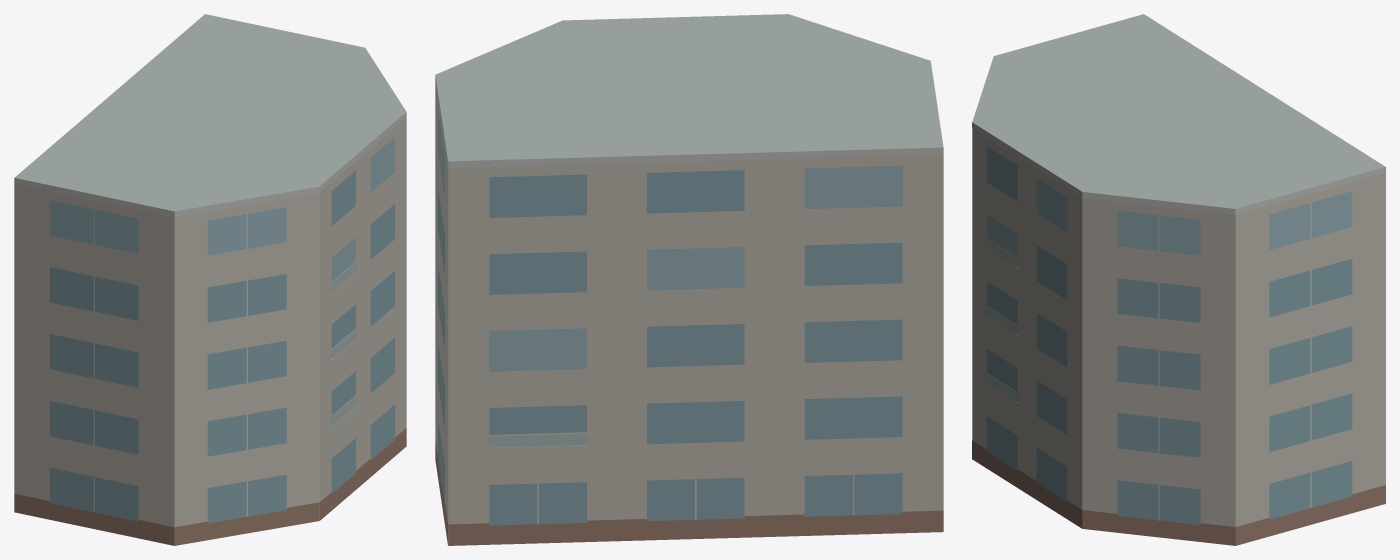
Rendered from survey-upis-32617657.glb.
The picture shows the model from 3 angles, left to right: view 1: azimuth 30°, elevation 25°; view 2: azimuth 150°, elevation 25°; view 3: azimuth 270°, elevation 25°; orthographic projection. The views are drawn at different scales.
Visible parts, largest first — view 1: survey-upis-32617657.tmp; view 2: survey-upis-32617657.tmp; view 3: survey-upis-32617657.tmp.
Part boxes in pixels (left/top/right/bottom): survey-upis-32617657.tmp: left=14, top=14, right=406, bottom=545; survey-upis-32617657.tmp: left=435, top=14, right=943, bottom=545; survey-upis-32617657.tmp: left=972, top=14, right=1385, bottom=545.
Size of the model in its own units: 16.57 by 13.35 by 14.86.
